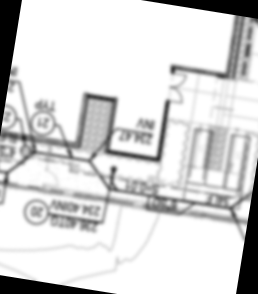door: (40, 169, 61, 189)
double door: (164, 71, 188, 106)
